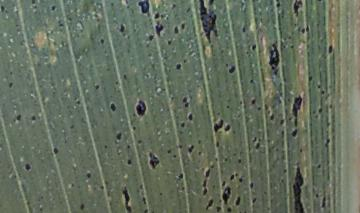tarspot: (195, 1, 226, 45), (289, 161, 307, 213), (289, 90, 304, 143), (265, 39, 285, 78), (118, 183, 136, 213), (131, 93, 150, 121), (199, 160, 214, 195), (146, 148, 162, 172), (291, 1, 305, 21), (137, 1, 154, 17), (151, 22, 167, 38), (181, 92, 193, 112), (318, 190, 329, 211), (140, 194, 152, 213), (176, 18, 191, 33), (211, 120, 224, 137), (184, 110, 199, 124), (172, 170, 188, 183), (325, 41, 337, 58), (205, 195, 216, 213), (106, 99, 119, 114), (232, 194, 245, 209), (117, 20, 128, 37), (277, 114, 288, 131), (298, 23, 312, 36), (21, 159, 33, 174), (113, 128, 124, 144), (249, 38, 260, 54), (4, 78, 17, 91), (13, 110, 24, 125), (172, 59, 183, 74), (323, 135, 333, 151), (247, 179, 259, 192), (50, 143, 61, 157), (83, 168, 94, 182), (171, 21, 181, 36), (72, 96, 84, 108), (248, 96, 260, 108), (267, 110, 278, 123), (253, 141, 264, 154), (304, 72, 317, 83), (78, 198, 88, 212), (164, 37, 178, 47), (240, 23, 250, 37), (237, 175, 249, 186), (124, 156, 135, 167), (97, 35, 108, 46), (145, 32, 156, 43), (226, 172, 237, 183), (164, 147, 175, 158), (91, 81, 103, 91), (186, 143, 196, 155), (222, 122, 232, 134), (135, 135, 144, 148), (151, 12, 162, 21), (226, 64, 237, 73), (49, 1, 57, 13), (234, 157, 244, 166), (29, 113, 38, 122), (1, 5, 9, 13), (247, 76, 254, 84), (29, 1, 40, 6), (320, 89, 326, 98)
